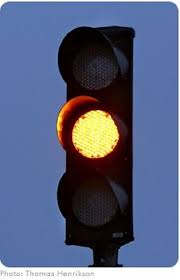amber: (53, 22, 140, 253), (63, 28, 135, 245), (66, 34, 127, 229)
